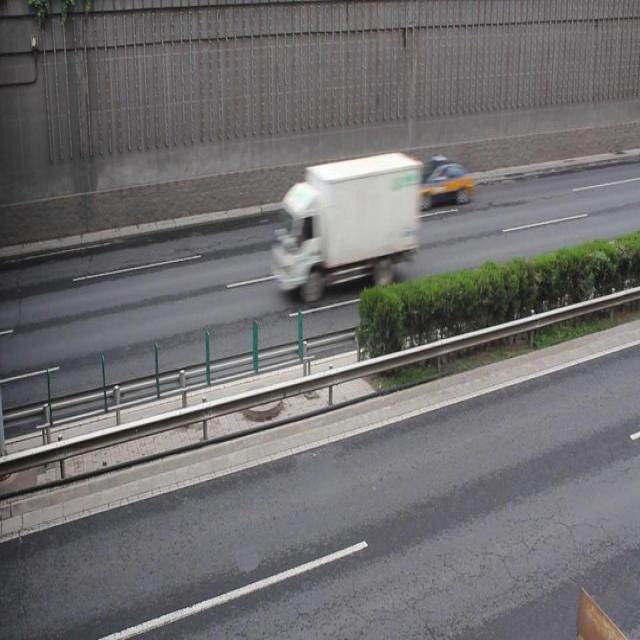bus: (273, 154, 419, 293)
car: (417, 156, 475, 210)
